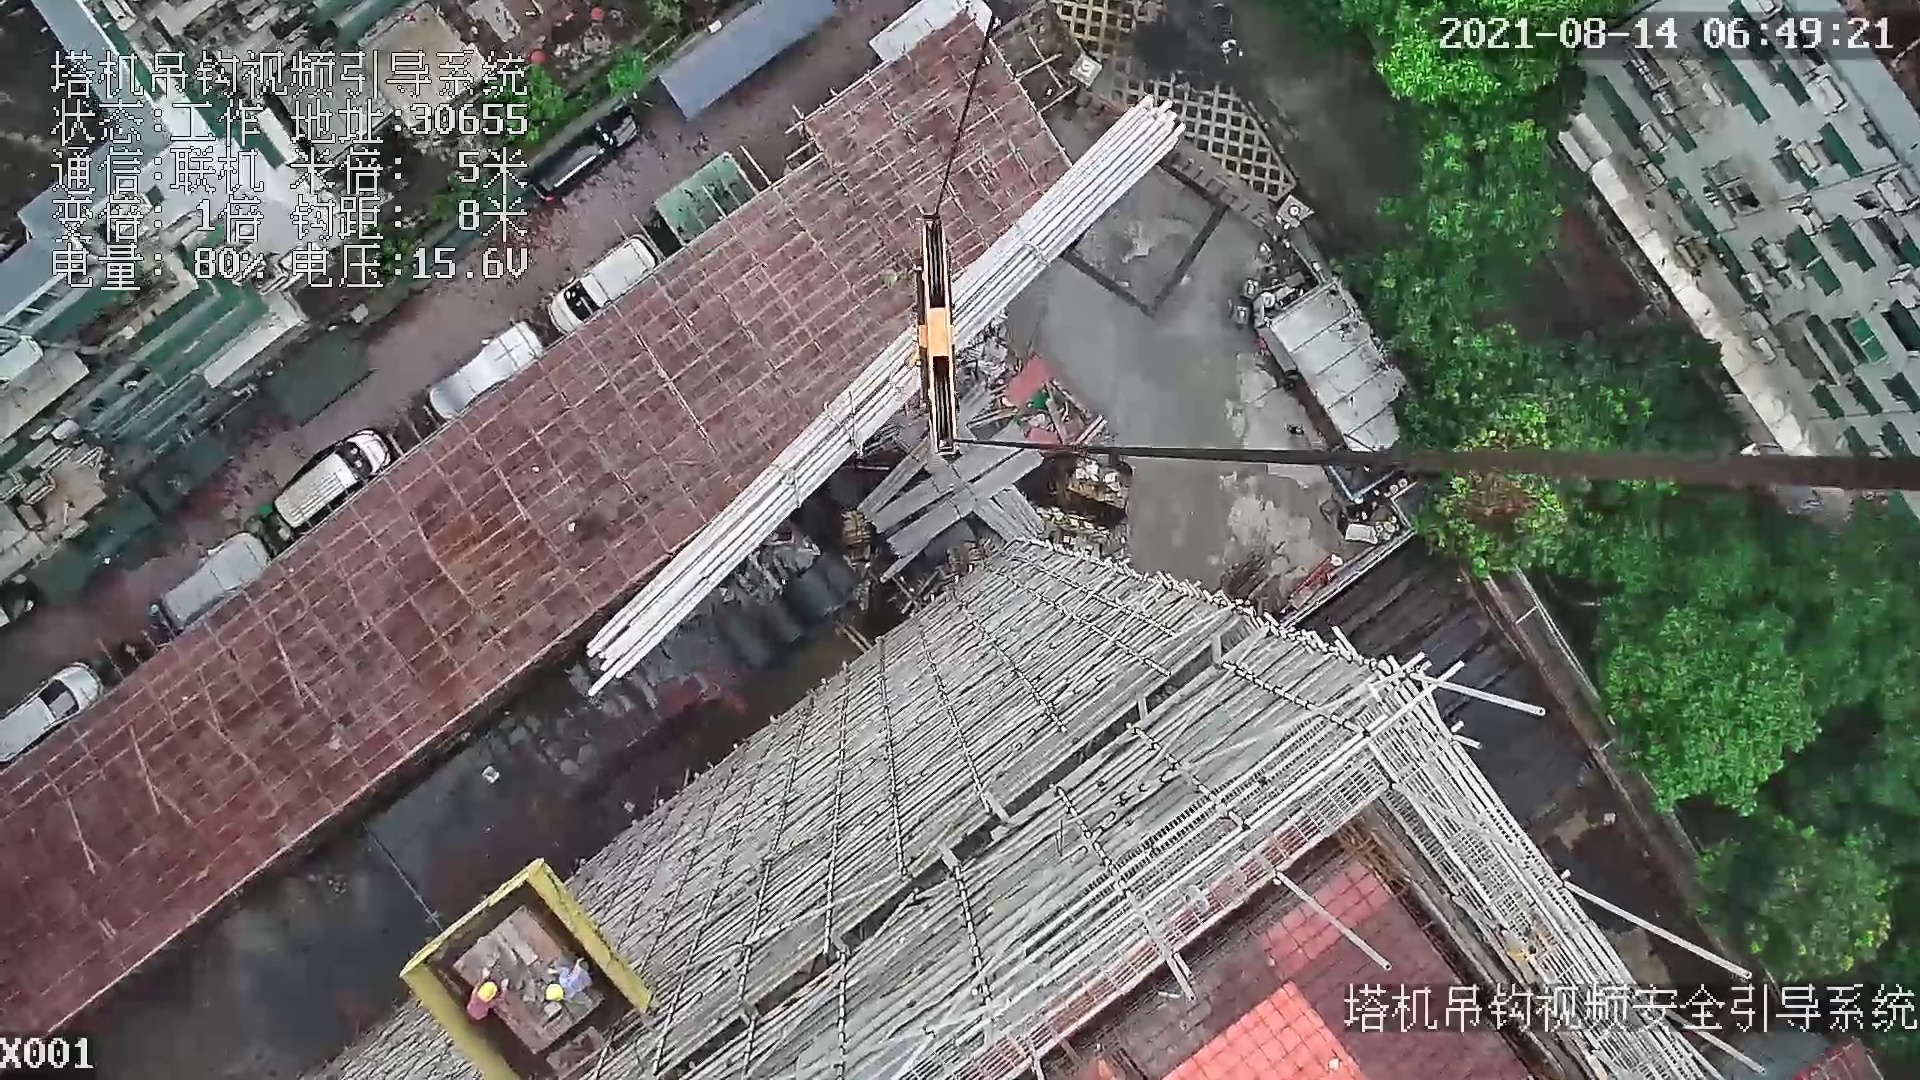helmet: (548, 980, 568, 1016), (471, 983, 503, 1003)
hook: (901, 210, 970, 456)
person: (462, 972, 509, 1024), (544, 959, 594, 1004)
